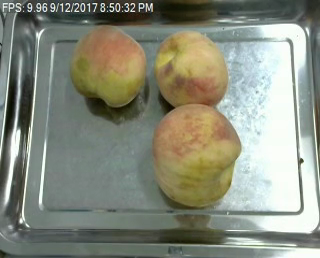Peach: (151, 103, 241, 207), (69, 24, 145, 106), (154, 30, 227, 109)
